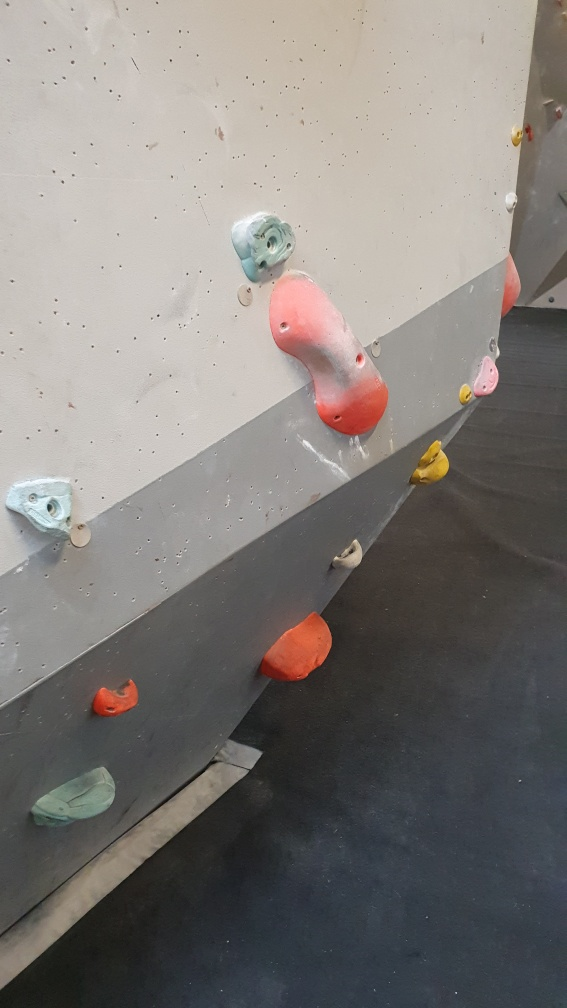Pinch: (265, 269, 394, 435)
